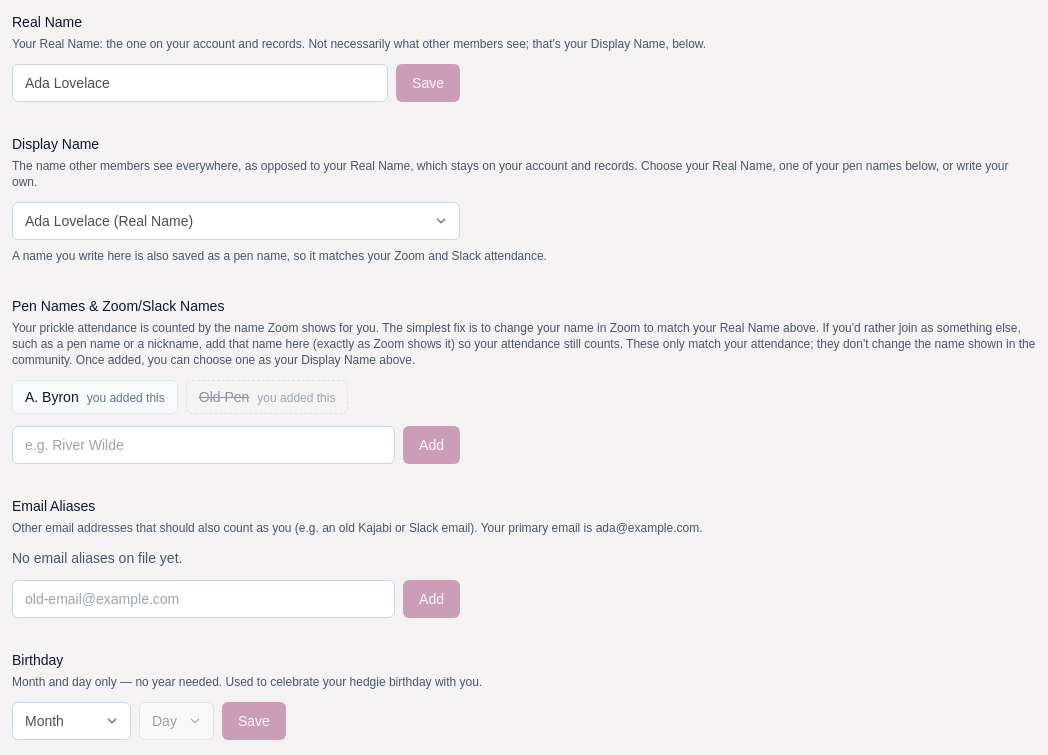
Test case: IdentityPanel › lets the member pick an active pen name as their display name, or go back to the real name
The image size is (1048, 755).
Select "A. Byron" in the 1st dropdown showing "Ada Lovelace (Real Name)". click: x=236, y=221
box: [12, 202, 460, 240]
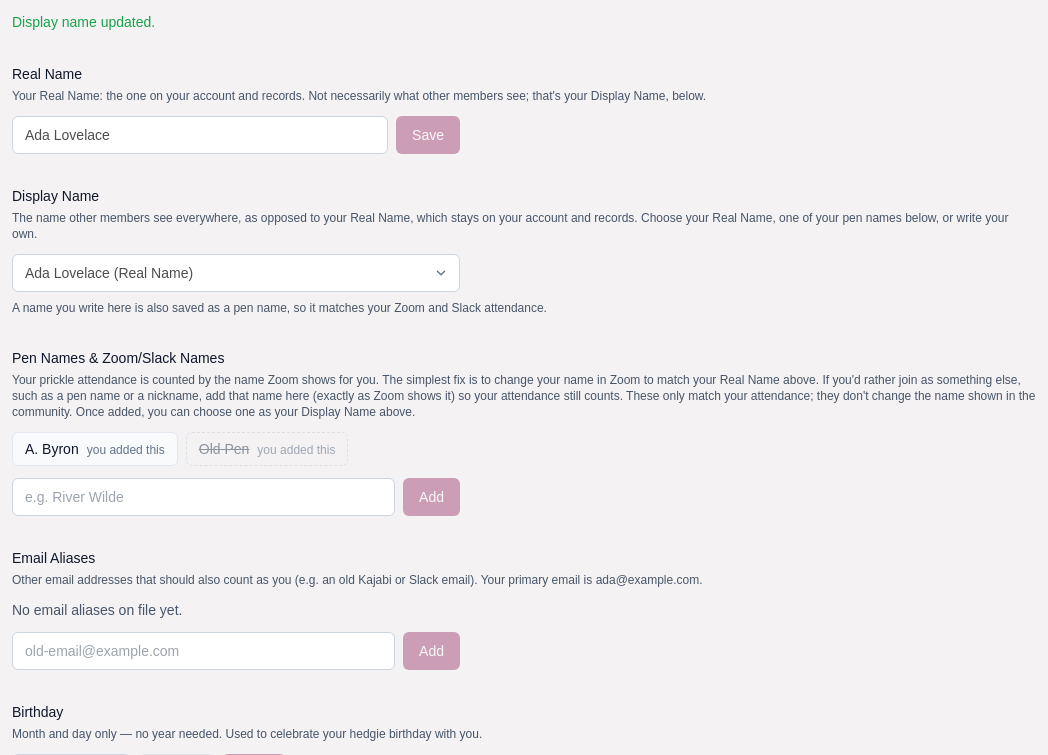
Result: the message reads "Display name updated." at [12, 14, 155, 30]
